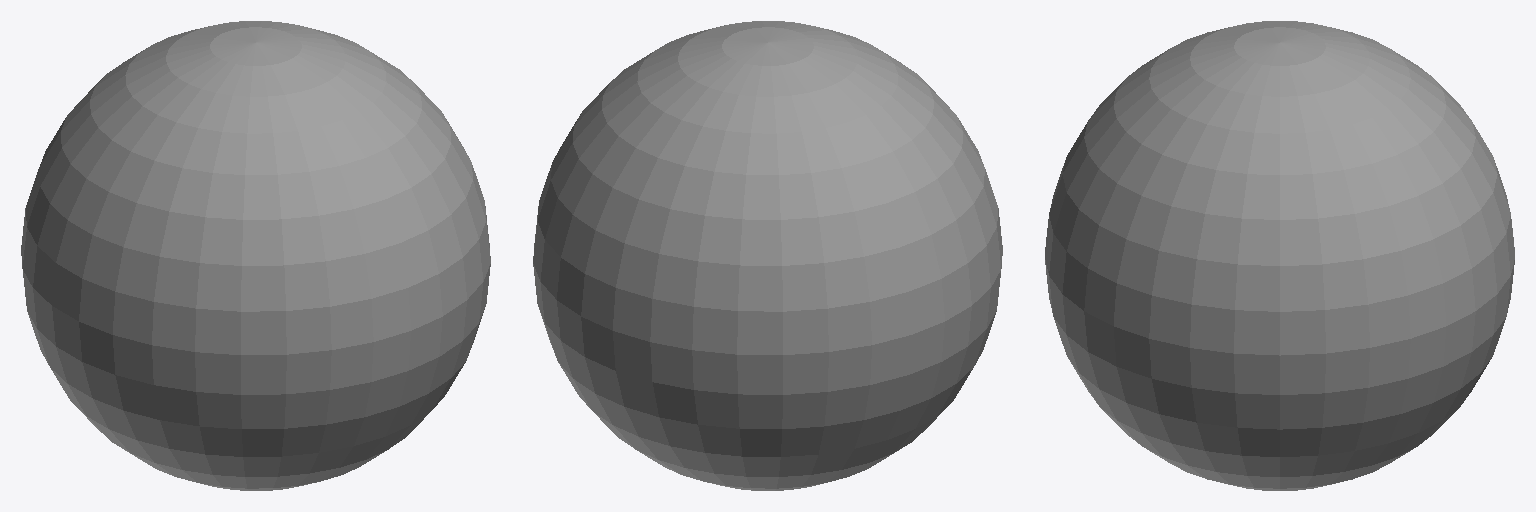
File: sun.obj
3 views of the same model, side by side, from view 1: azimuth 30°, elevation 25°; view 2: azimuth 150°, elevation 25°; view 3: azimuth 270°, elevation 25° (orthographic).
Bounding box in the file's own units: 2 × 2 × 2.